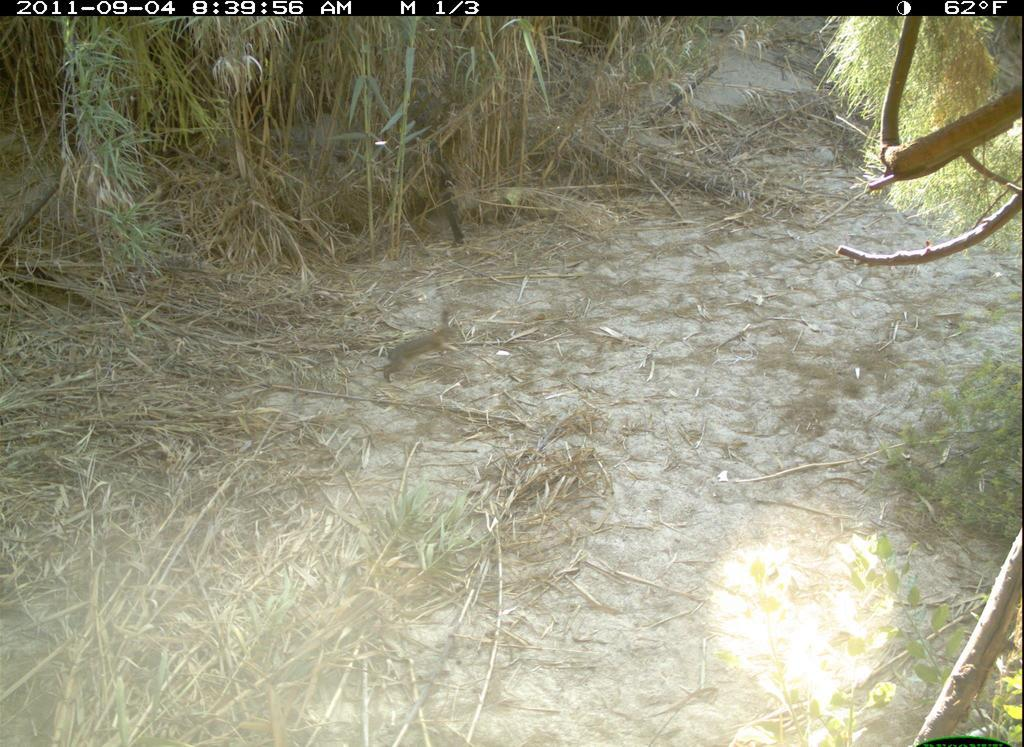rabbit: (368, 305, 484, 393)
